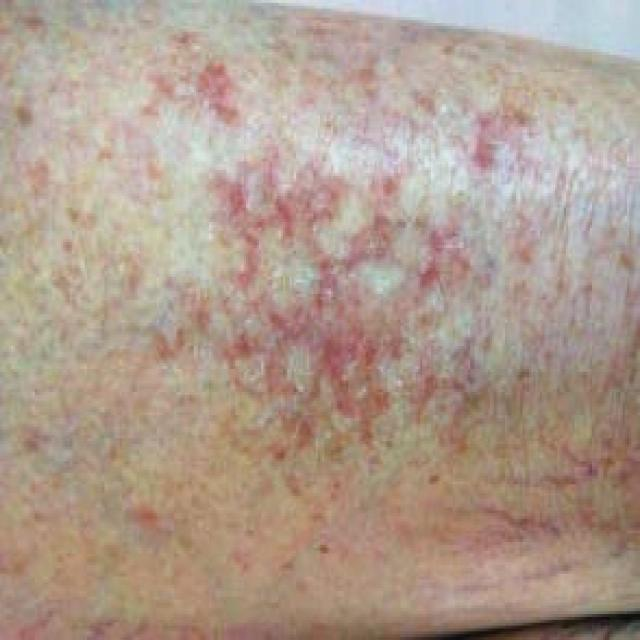Atopic-Dermatitis: (39, 47, 616, 535)
